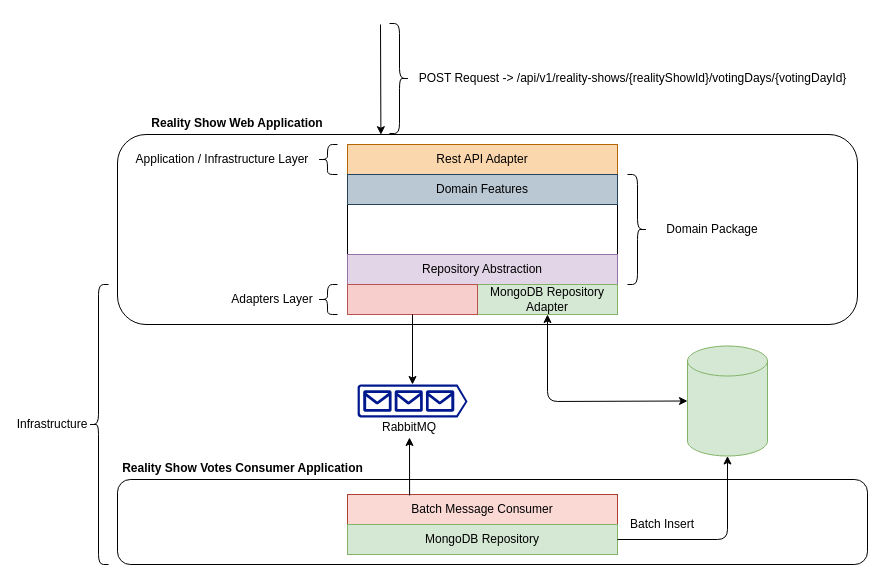
Image size: 885x582. Some labels were removed from this diagram. The shapes that lost their labels are listed below. From the top down, each one's box as (x1, y1, x2, y2) in pixels, then its label:
(346, 204, 618, 254): Domain Model
(346, 284, 478, 314): RabbitMQ Batch Repository Adapter
(686, 345, 768, 456): MongoDB
